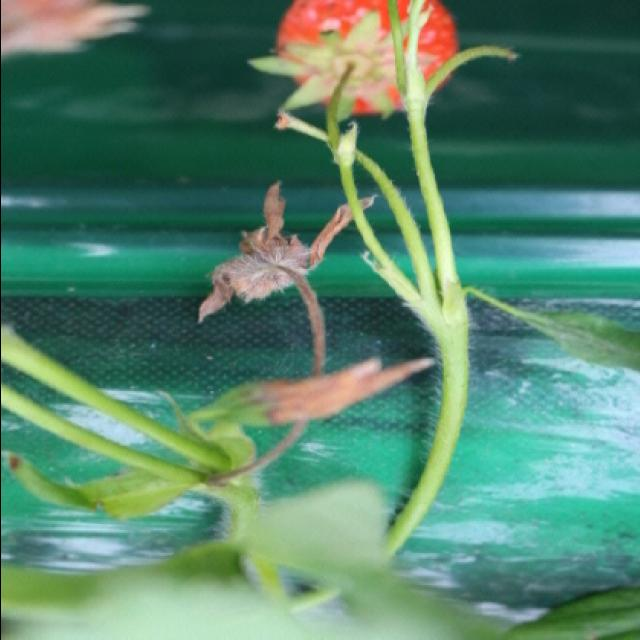Gray Mold: (195, 180, 376, 324)
